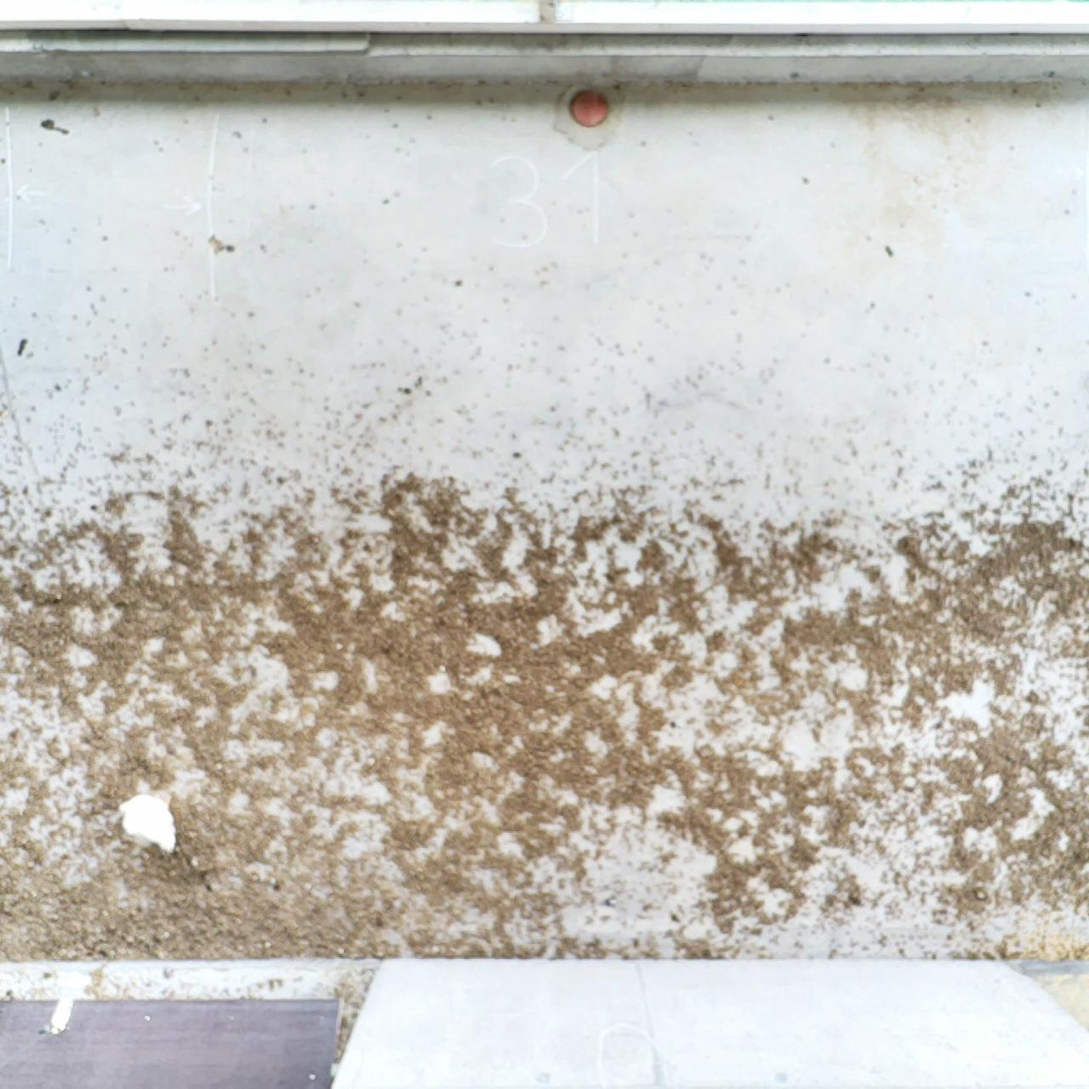chicken: (112, 784, 182, 857)
